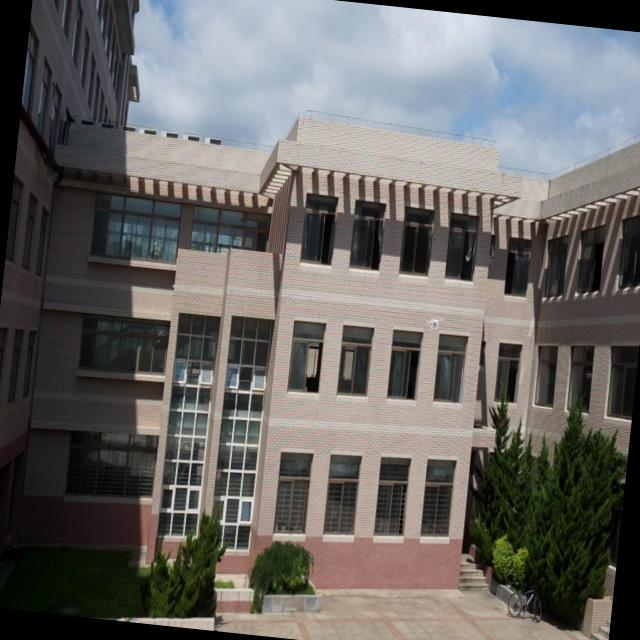drone: (423, 310, 444, 334)
